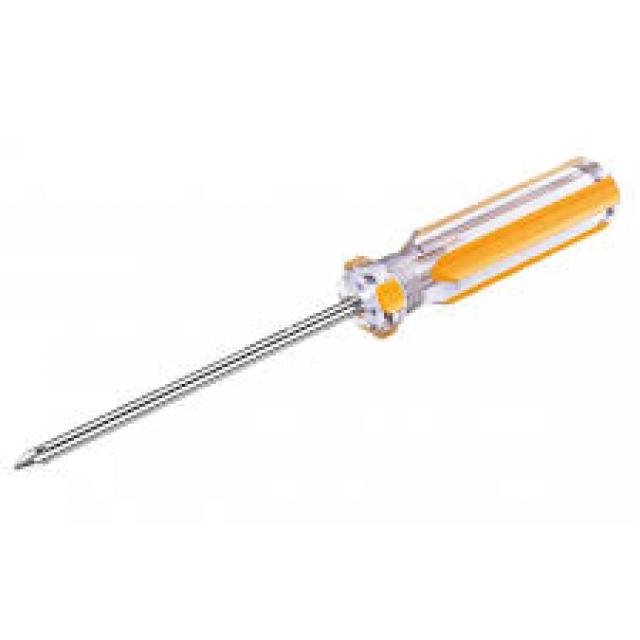screwdriver: (9, 152, 624, 474)
